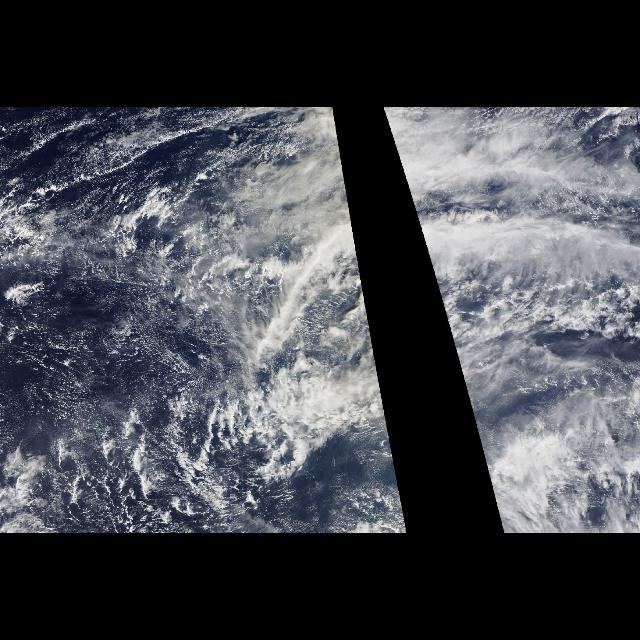Gravel: (5, 121, 322, 533)
Sugar: (1, 108, 207, 230), (8, 323, 206, 447)
